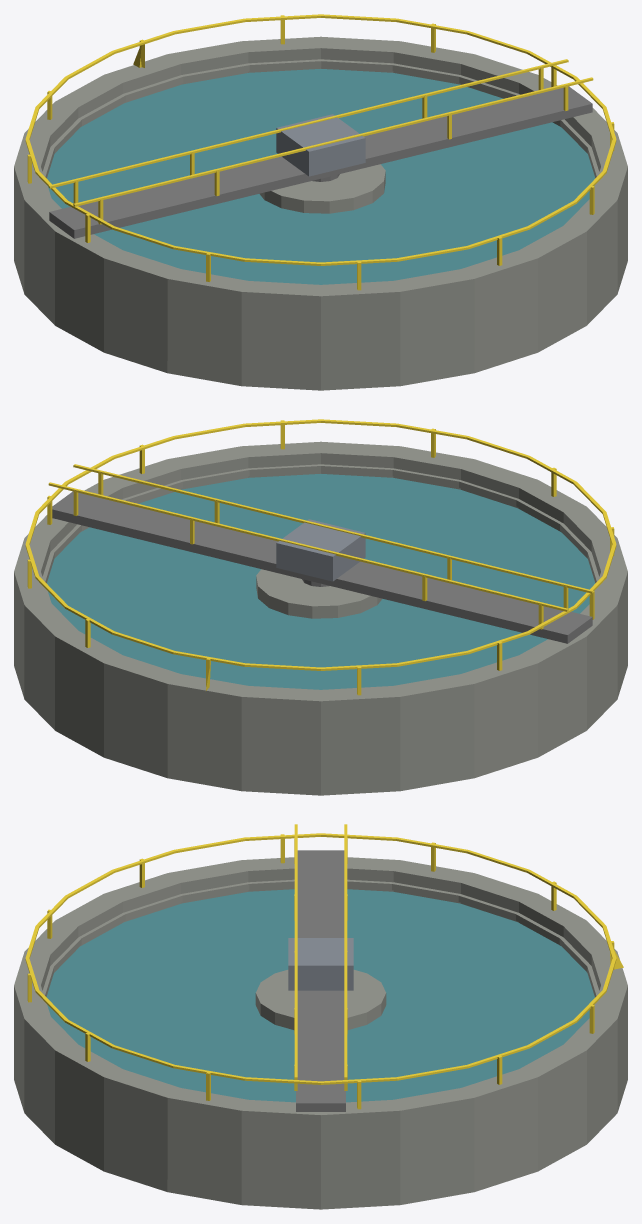
Rendered from site_clarifier.fbx.
The picture shows the model from 3 angles, top to bottom: view 1: azimuth 30°, elevation 25°; view 2: azimuth 150°, elevation 25°; view 3: azimuth 270°, elevation 25°; orthographic projection.
Visible parts, largest first — view 1: a1058/0/site_clarifier; view 2: a1058/0/site_clarifier; view 3: a1058/0/site_clarifier.
Boxes of the visible parts, <box> form: a1058/0/site_clarifier: <box>14,14,627,390</box>; a1058/0/site_clarifier: <box>14,419,627,795</box>; a1058/0/site_clarifier: <box>14,824,627,1209</box>.
Bounding box in the file's own units: 22.4 × 5.19 × 22.4.
